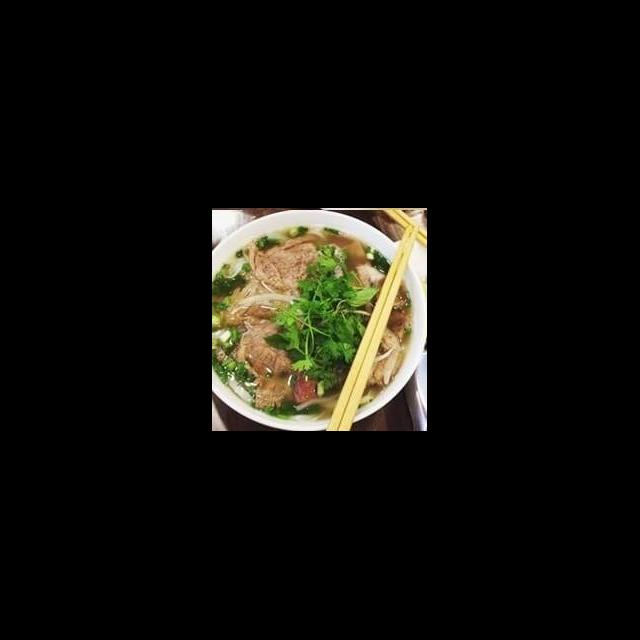thit bo: (222, 230, 332, 330), (228, 312, 302, 414)
